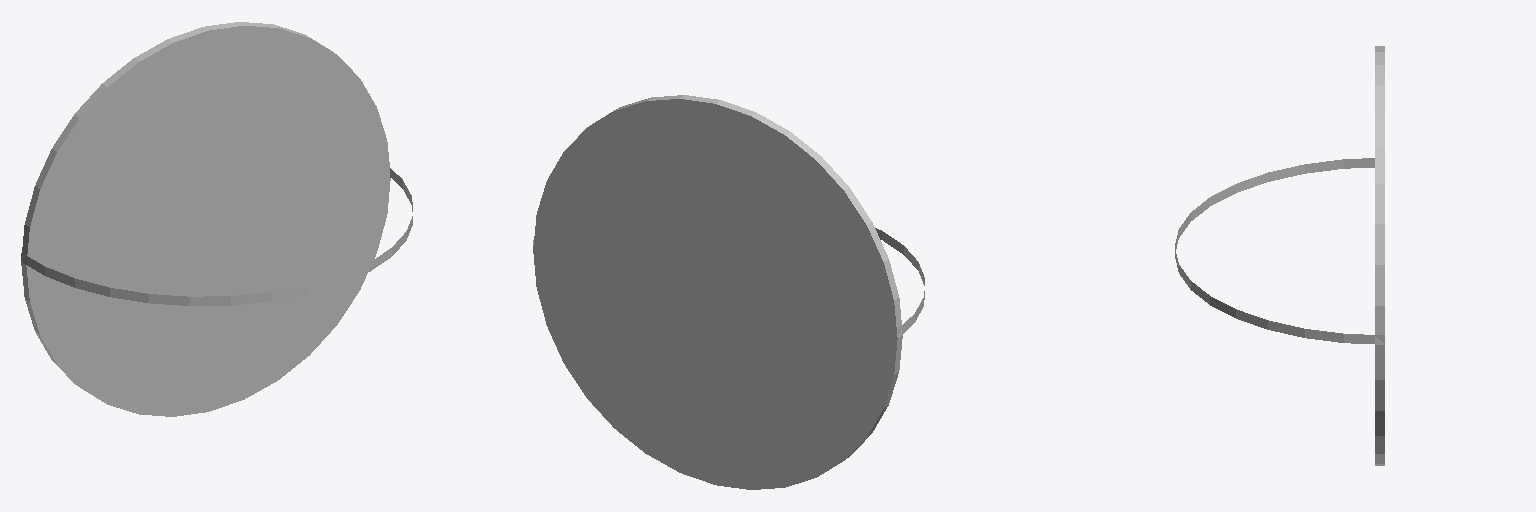
Rendered from smile mask.obj.
The picture shows the model from 3 angles: view 1: azimuth 30°, elevation 25°; view 2: azimuth 150°, elevation 25°; view 3: azimuth 270°, elevation 25°; orthographic projection.
Parts seen in each view (by area): view 1: Cylinder002; view 2: Cylinder002; view 3: Cylinder002.
Part boxes in pixels (left/top/right/bottom): Cylinder002: left=21, top=22, right=412, bottom=416; Cylinder002: left=533, top=95, right=924, bottom=489; Cylinder002: left=1175, top=46, right=1384, bottom=465.
Size of the model in its own units: 200 by 200 by 100.